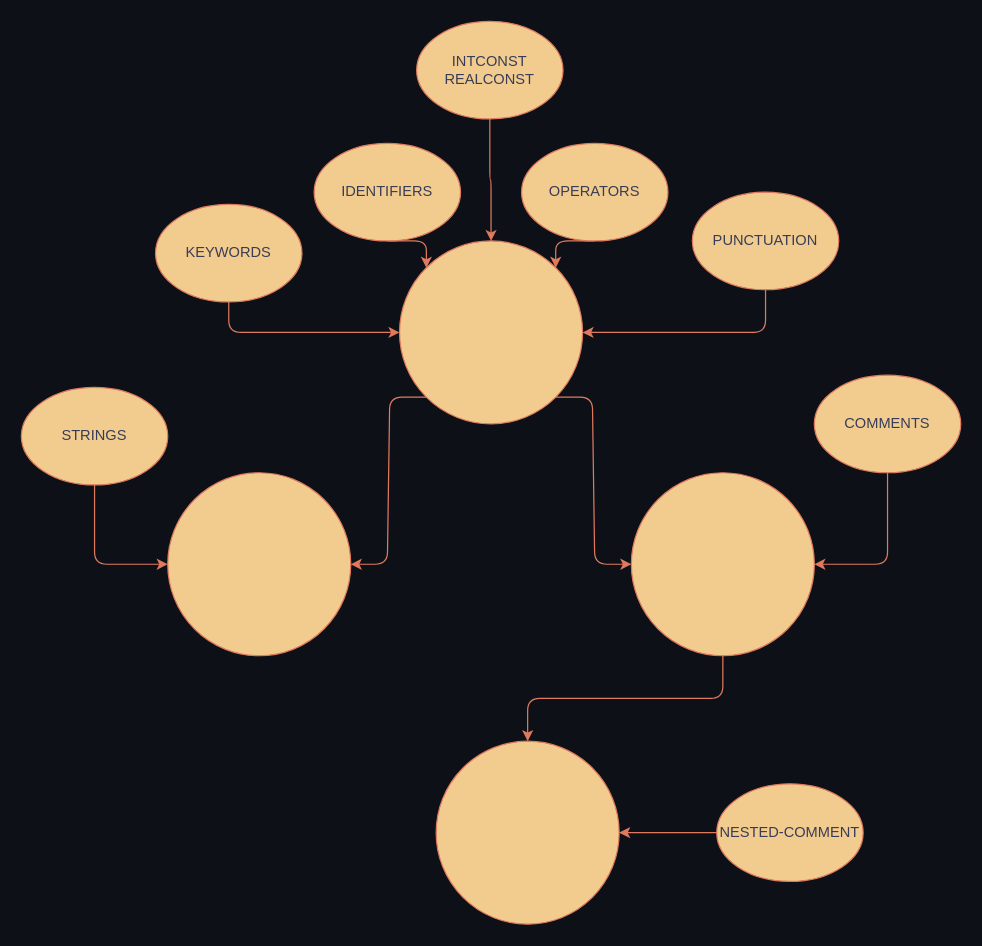
Some shapes in this 982 by 946 pixel diagram are drawn without their labels. Here are the shapes that lost their labels. From the top down, the centre of each, then its label:
the point at 490,332: INITIAL STATE
the point at 259,564: STRING STATE
the point at 722,564: COMMENT STATE
the point at 527,832: NESTED COMMENT STATE
